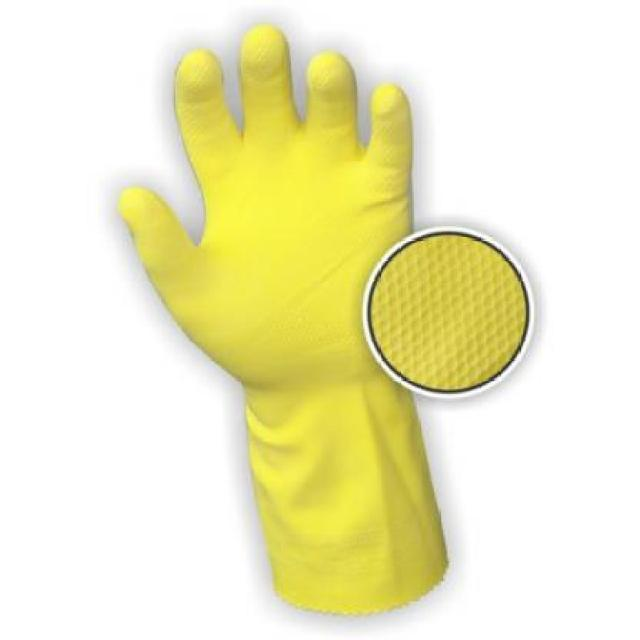glove_hand: (114, 26, 482, 640)
